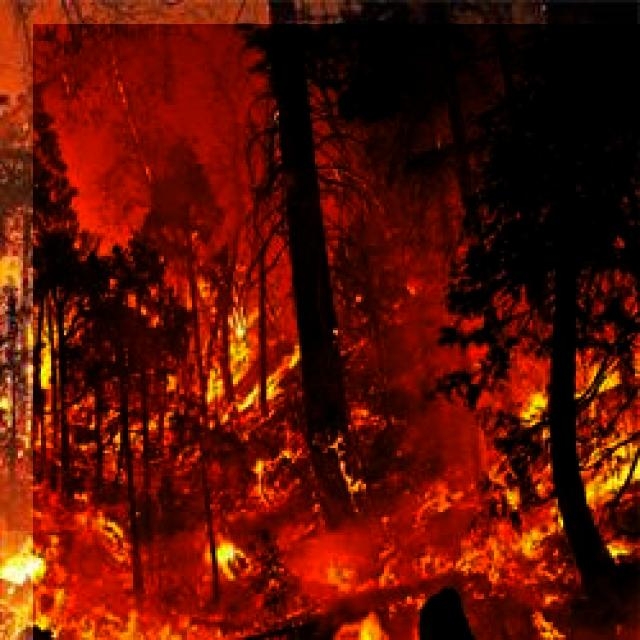Fire: (2, 531, 184, 640), (2, 258, 121, 420), (192, 288, 322, 416), (509, 380, 640, 492), (335, 528, 572, 584), (176, 519, 300, 606), (336, 599, 404, 640)
Smoke: (33, 24, 640, 640)
